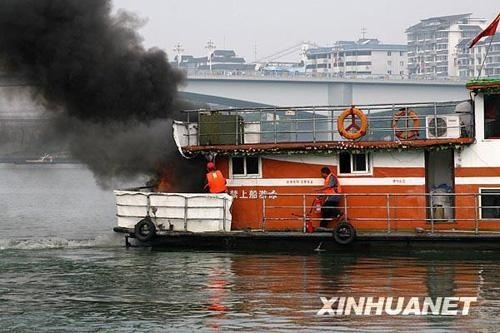fire: (204, 163, 226, 192), (156, 175, 173, 193)
